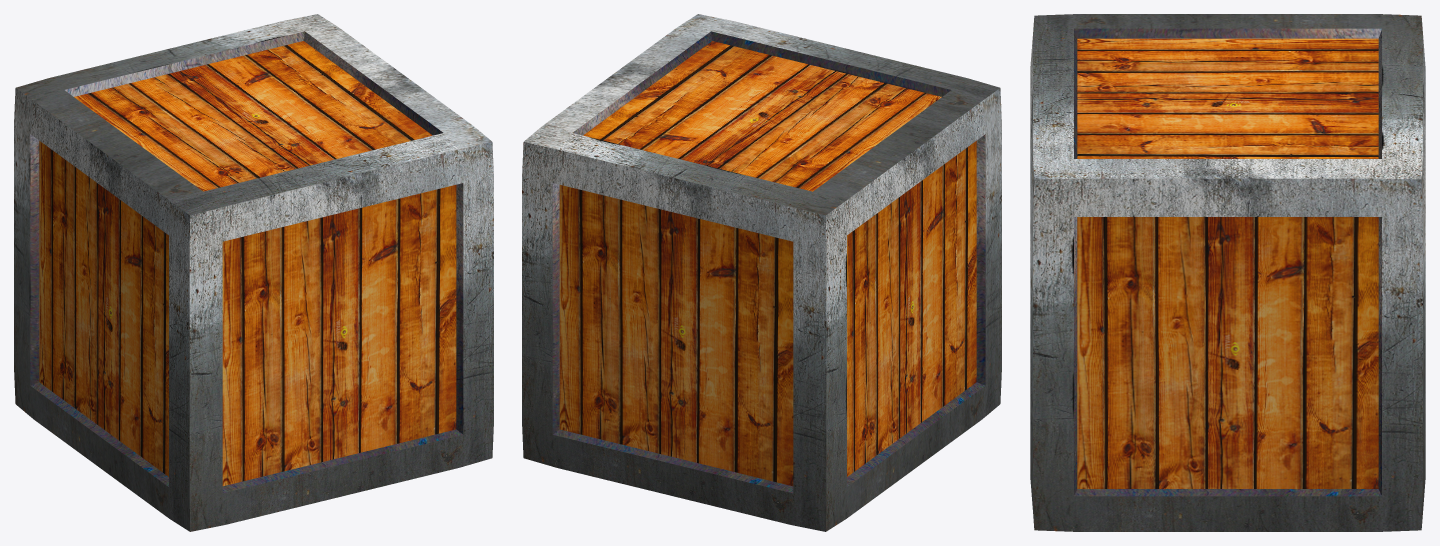
The picture shows the model from 3 angles, left to right: view 1: azimuth 30°, elevation 25°; view 2: azimuth 150°, elevation 25°; view 3: azimuth 270°, elevation 25°; orthographic projection. The views are drawn at different scales.
Parts seen in each view (by area): view 1: Box001; view 2: Box001; view 3: Box001.
Part boxes in pixels (left/top/right/bottom): Box001: left=14, top=14, right=493, bottom=531; Box001: left=522, top=14, right=1001, bottom=531; Box001: left=1030, top=14, right=1425, bottom=531.
Size of the model in its own units: 0.8271 by 0.8271 by 0.8271.
1 material, 1 textured.
